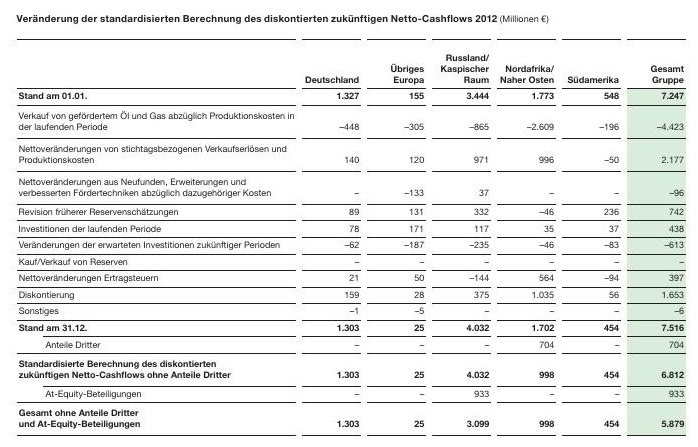table: (0, 0, 698, 447)
